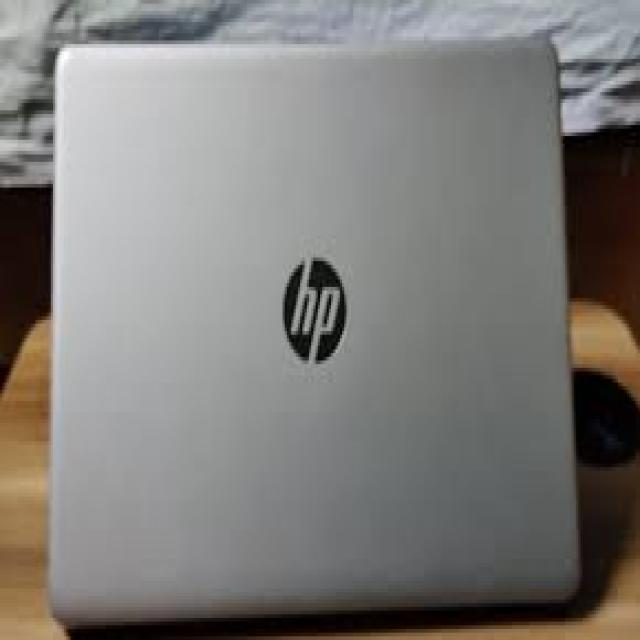laptop: (46, 29, 585, 629)
